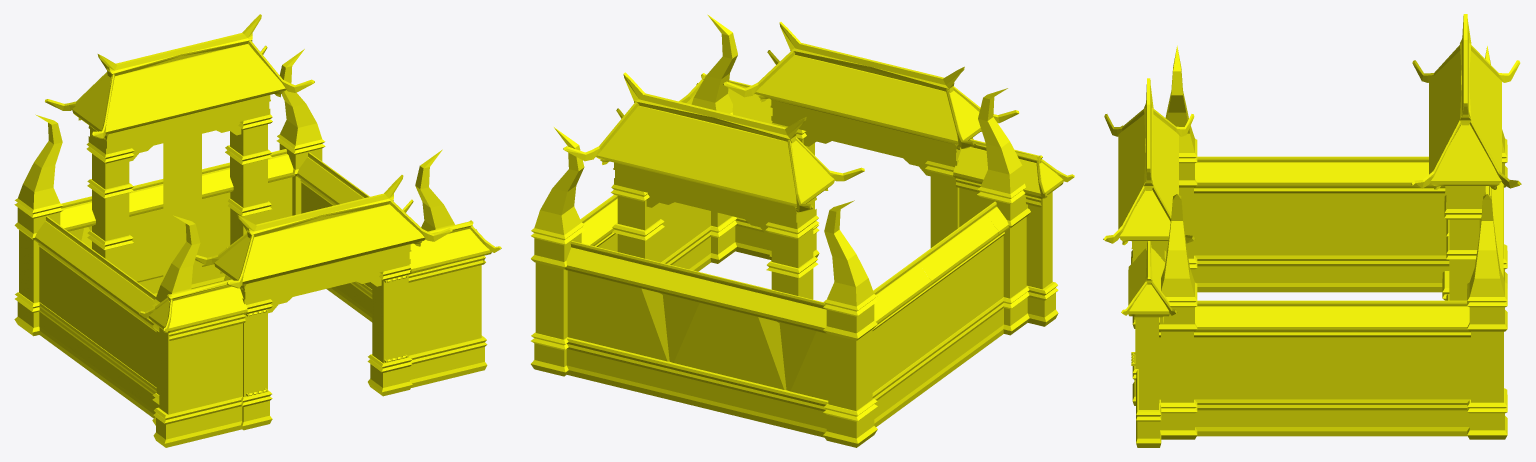
The model's file is thief_dungeon_gate.glb.
The picture shows the model from 3 angles, left to right: view 1: azimuth 30°, elevation 25°; view 2: azimuth 150°, elevation 25°; view 3: azimuth 270°, elevation 25°; orthographic projection. The views are drawn at different scales.
Parts seen in each view (by area): view 1: b1s-002-inwall-01_1, b1s-002-inwall-02; view 2: b1s-002-inwall-01_1, b1s-002-inwall-02; view 3: b1s-002-inwall-01_1.
Part boxes in pixels (box(x1,y1,x2,y2)): b1s-002-inwall-01_1: box(14, 14, 501, 447); b1s-002-inwall-02: box(129, 122, 381, 313); b1s-002-inwall-01_1: box(531, 14, 1074, 447); b1s-002-inwall-02: box(646, 131, 930, 236); b1s-002-inwall-01_1: box(1103, 14, 1521, 447).
Bounding box in the file's own units: 21.77 × 16.45 × 20.71.
Materials: 2 (2 with a texture image).
